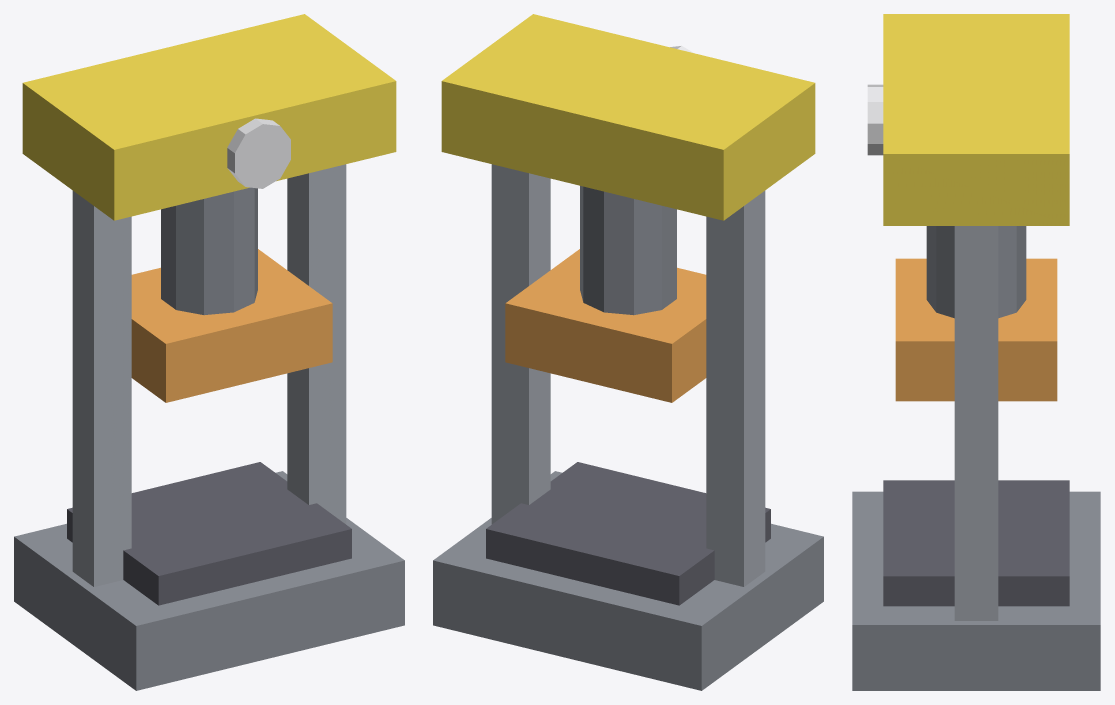
File: press.glb
3 views of the same model, side by side, from view 1: azimuth 30°, elevation 25°; view 2: azimuth 150°, elevation 25°; view 3: azimuth 270°, elevation 25° (orthographic).
Visible parts, largest first — view 1: press; view 2: press; view 3: press.
Boxes of the visible parts, bbox=[...] form: press: bbox=[14, 14, 404, 690]; press: bbox=[433, 14, 823, 690]; press: bbox=[852, 14, 1100, 690].
Size of the model in its own units: 1 by 1.8 by 0.75.
